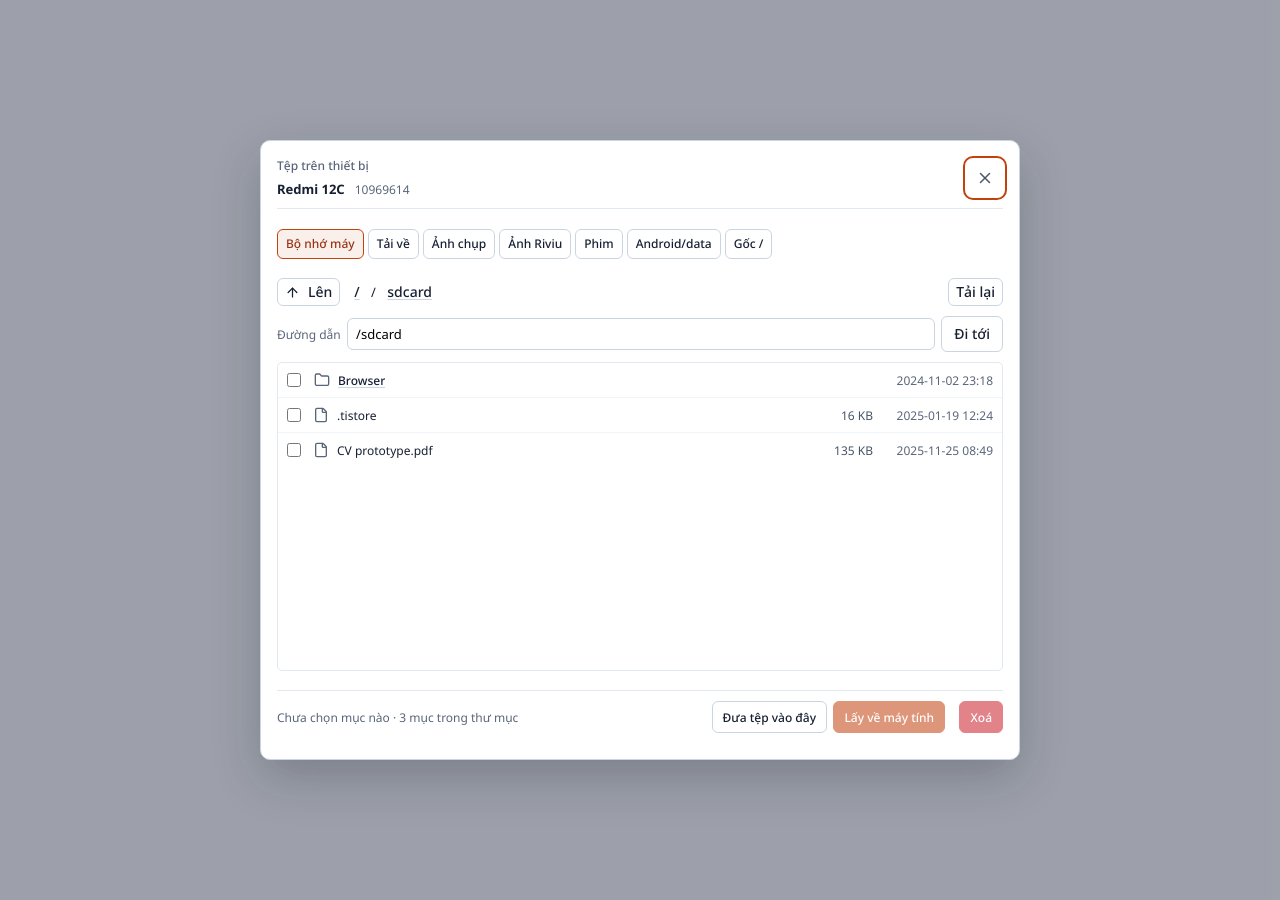
Scenario: DeviceFilesPopup › confirms a delete by naming the files, then re-reads the folder
The width and height of the screenshot is (1280, 900).
Click the checkbox named "Chọn .tistore": (294, 416) [287,408,301,422]
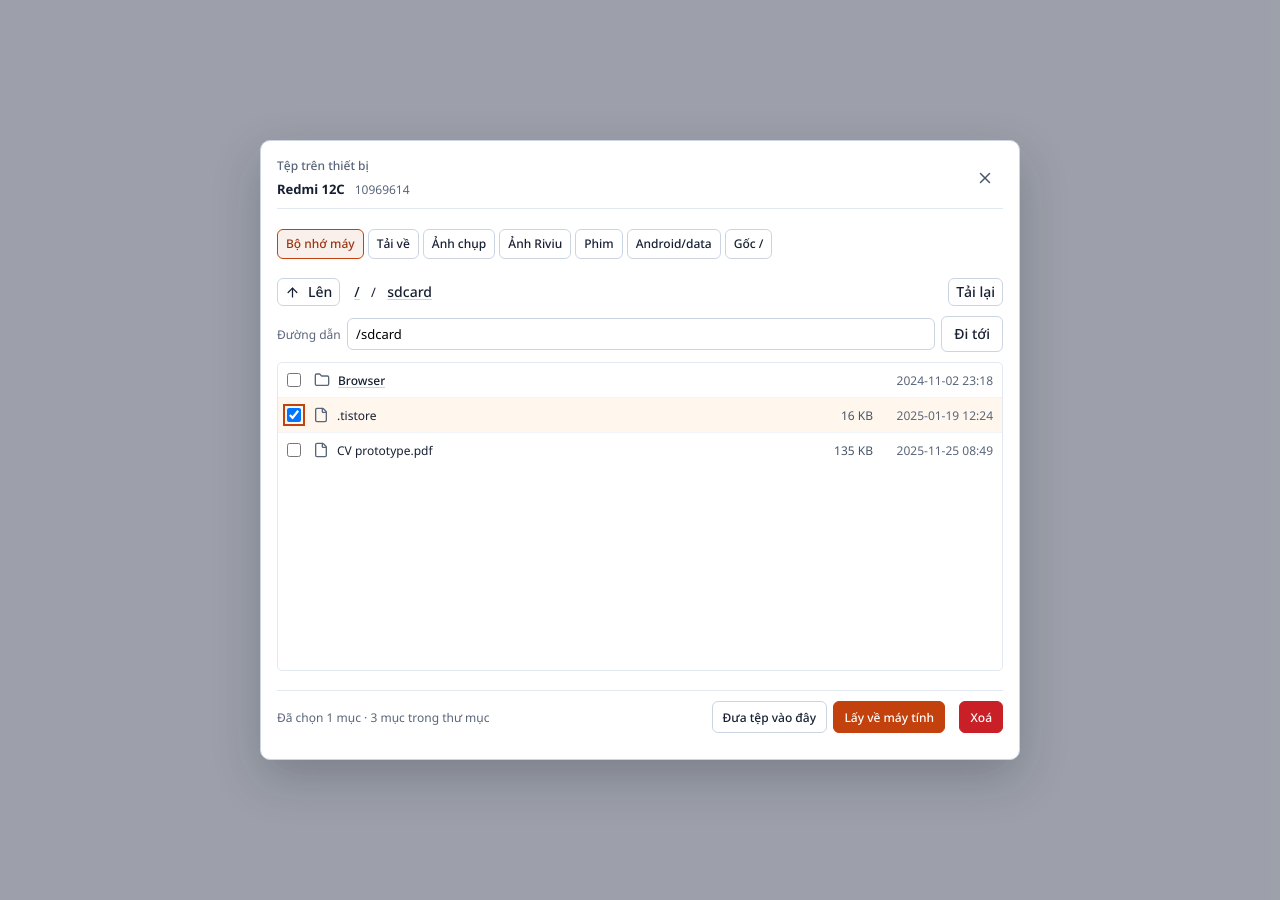
Click the button "Xoá": (981, 717) [960,701,1003,733]
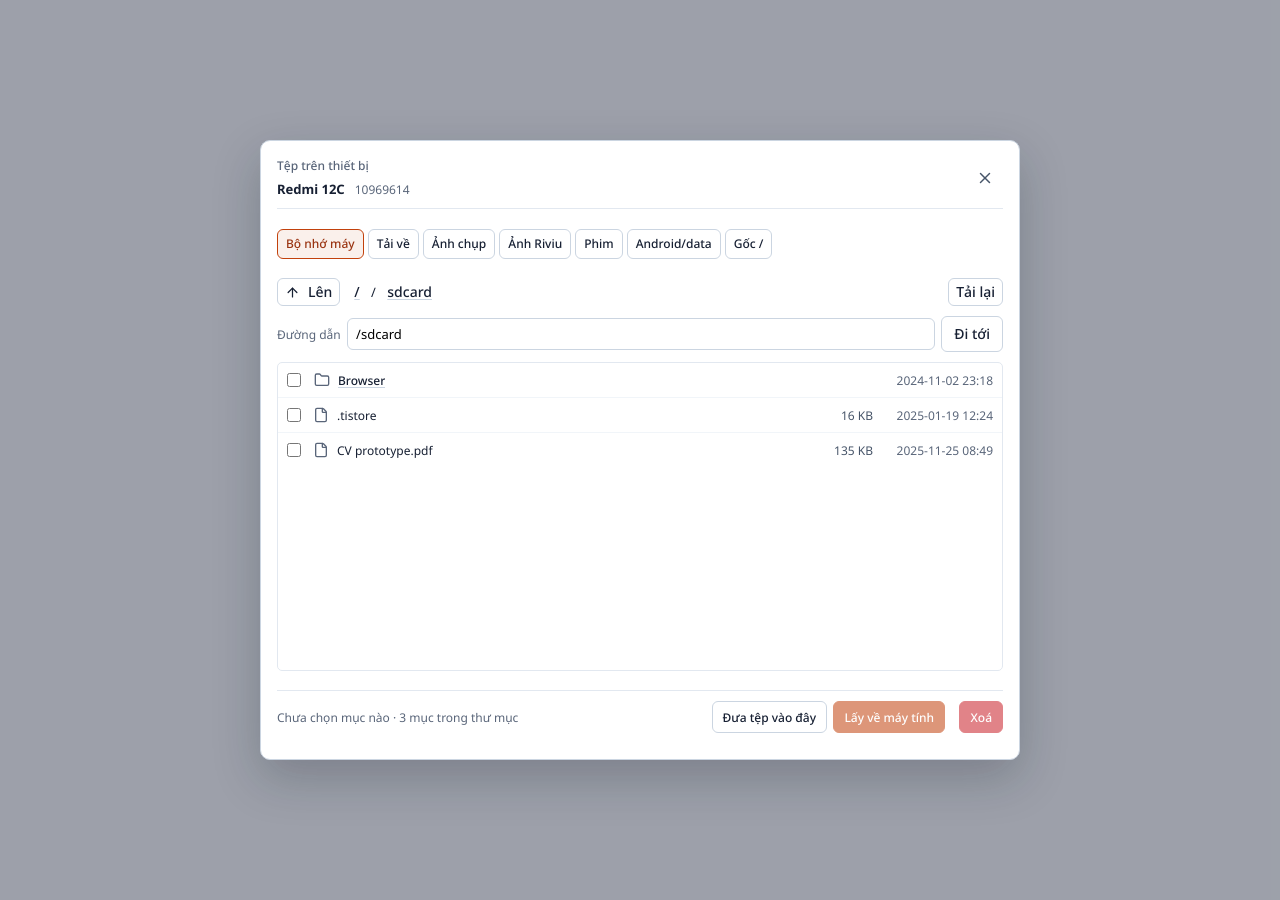
Check: the text "Chưa chọn mục nào" is shown, box [277,709,390,726]
